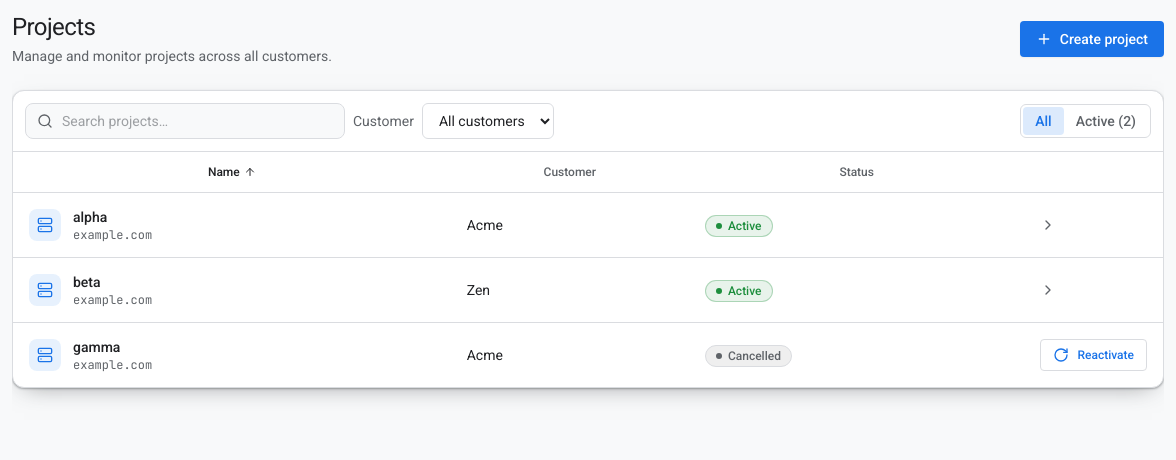
Staff customer project filtering › shows all customers by default, filters projects, and combines search and active filters
Check: the text "alpha" is shown, box [73,209,107,225]
Check: the text "beta" is shown, box [73,274,101,290]
Step 1. Select "Acme" in the dropdown labelled "Customer" → (488, 121), box [422,103,554,139]
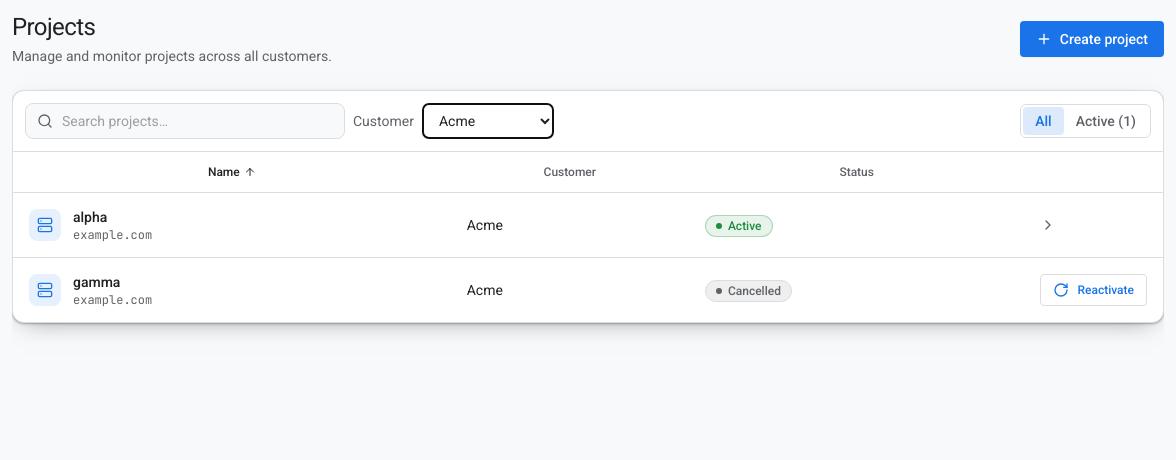
Check: the text "gamma" is shown, box [73,274,120,290]
Check: the text "beta" is gone
Step 2. Click the button "Active (1)" → (1106, 121), box [1064,107,1148,135]
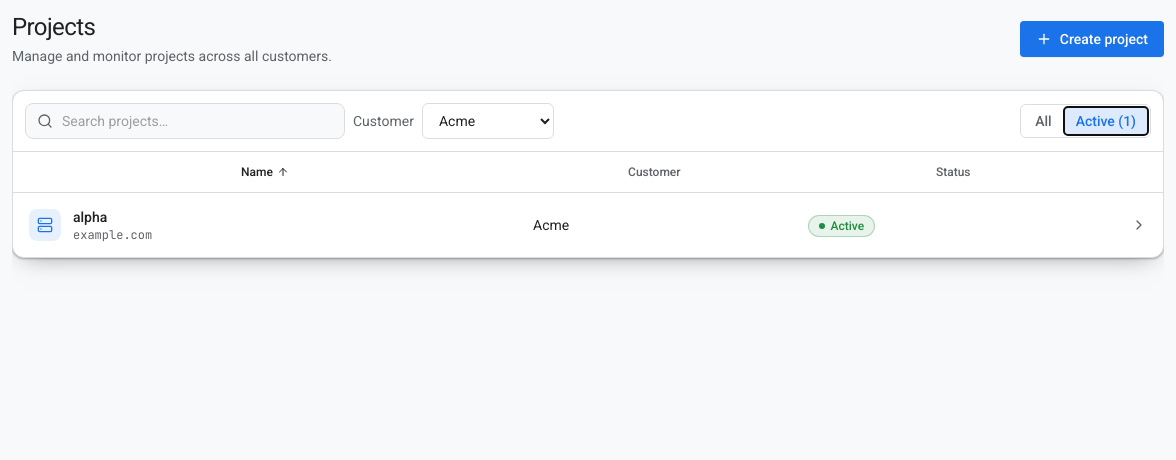
Check: the text "gamma" is gone
Step 3. Type "missing" into the field with placeholder "Search projects…" → (185, 121), box [25,103,345,139]
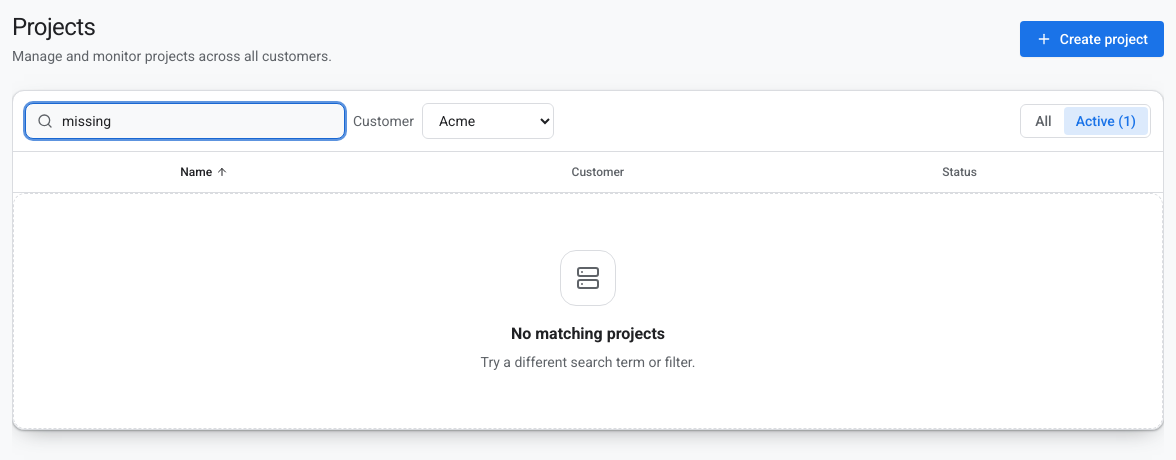
Check: the heading "No matching projects" is shown, box [511,322,665,346]
